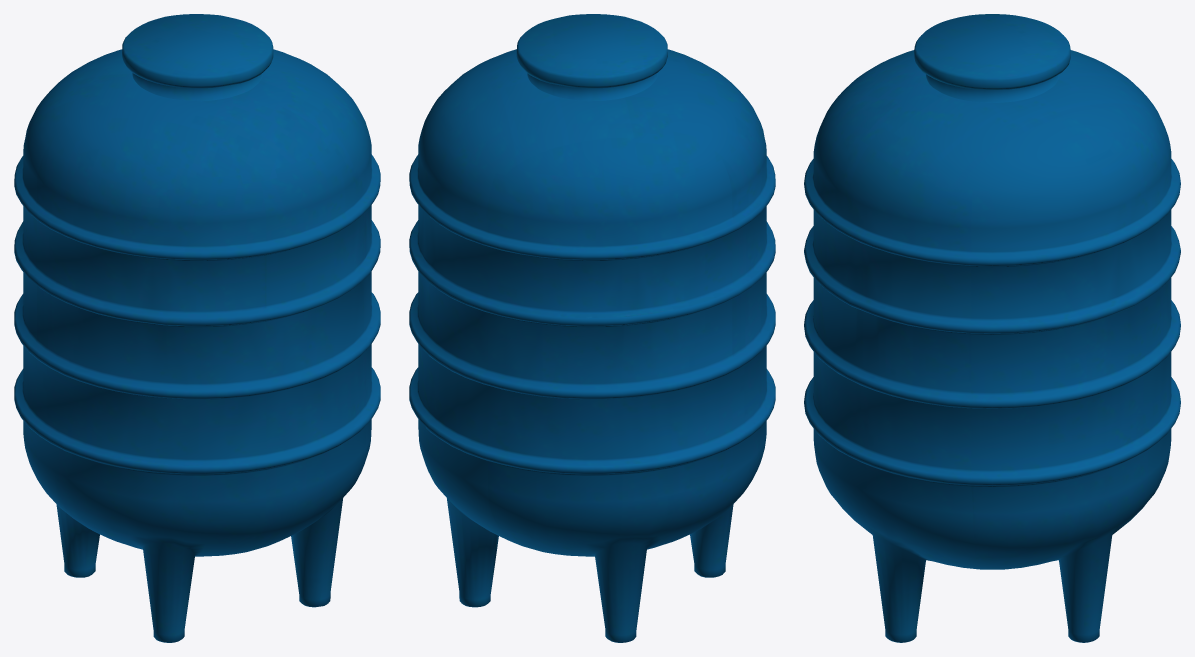
The model's file is water_tank_c27c18f7_v1.glb.
3 renders of one model, left to right at view 1: azimuth 30°, elevation 25°; view 2: azimuth 150°, elevation 25°; view 3: azimuth 270°, elevation 25°, orthographic. The views are drawn at different scales.
Visible parts, largest first — view 1: material; view 2: material; view 3: material.
Boxes of the visible parts, bbox=[...] form: material: bbox=[14, 14, 380, 642]; material: bbox=[409, 14, 775, 642]; material: bbox=[804, 14, 1180, 642].
Size of the model in its own units: 1.17 by 1.9 by 1.17.
Materials: 1 (1 with a texture image).
